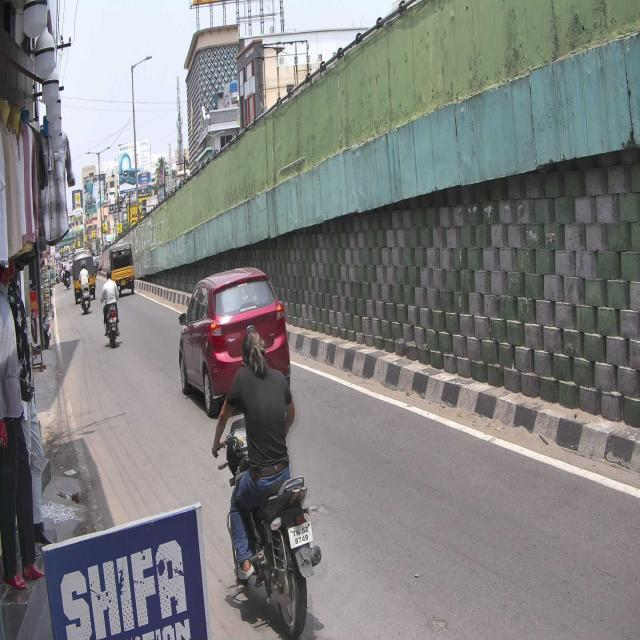single_rider: (210, 327, 322, 640)
